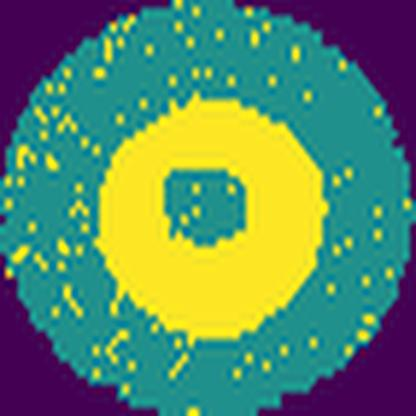Donut: (87, 88, 341, 347)
